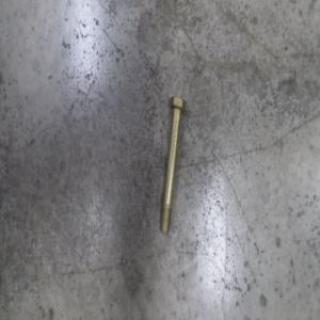Bolttrack_idkeyframe: (157, 94, 186, 235)
